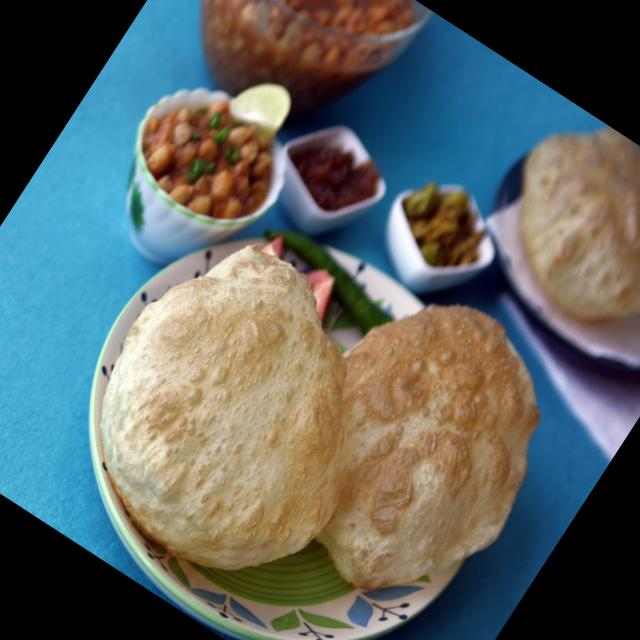Bhatura: (38, 212, 434, 621), (245, 264, 596, 636), (467, 99, 640, 358)
Chole: (125, 65, 299, 236)
